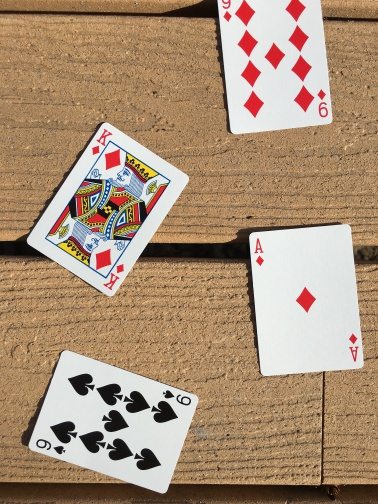ace: (247, 224, 365, 376)
king: (26, 121, 190, 297)
nine: (28, 350, 199, 493), (218, 1, 334, 136)
